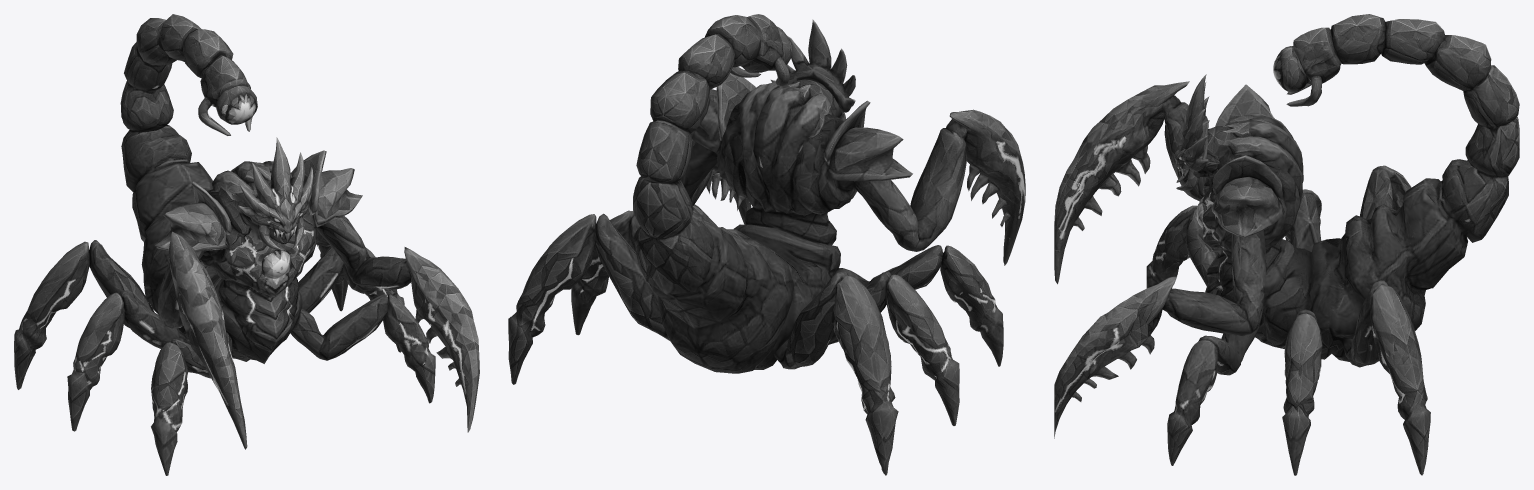
File: hive_tyrant.glb
3 renders of one model, left to right at view 1: azimuth 30°, elevation 25°; view 2: azimuth 150°, elevation 25°; view 3: azimuth 270°, elevation 25°, orthographic. The views are drawn at different scales.
Size of the model in its own units: 0.9187 by 0.8949 by 1.
1 material, 1 textured.
